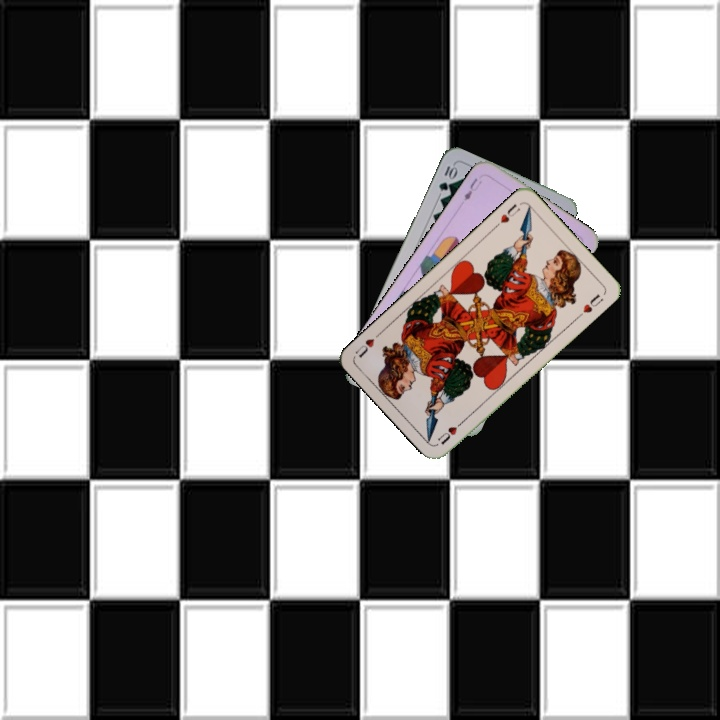EU: (460, 174, 485, 204)
G10: (435, 161, 460, 194)
HU: (433, 416, 467, 447), (491, 200, 523, 230)
